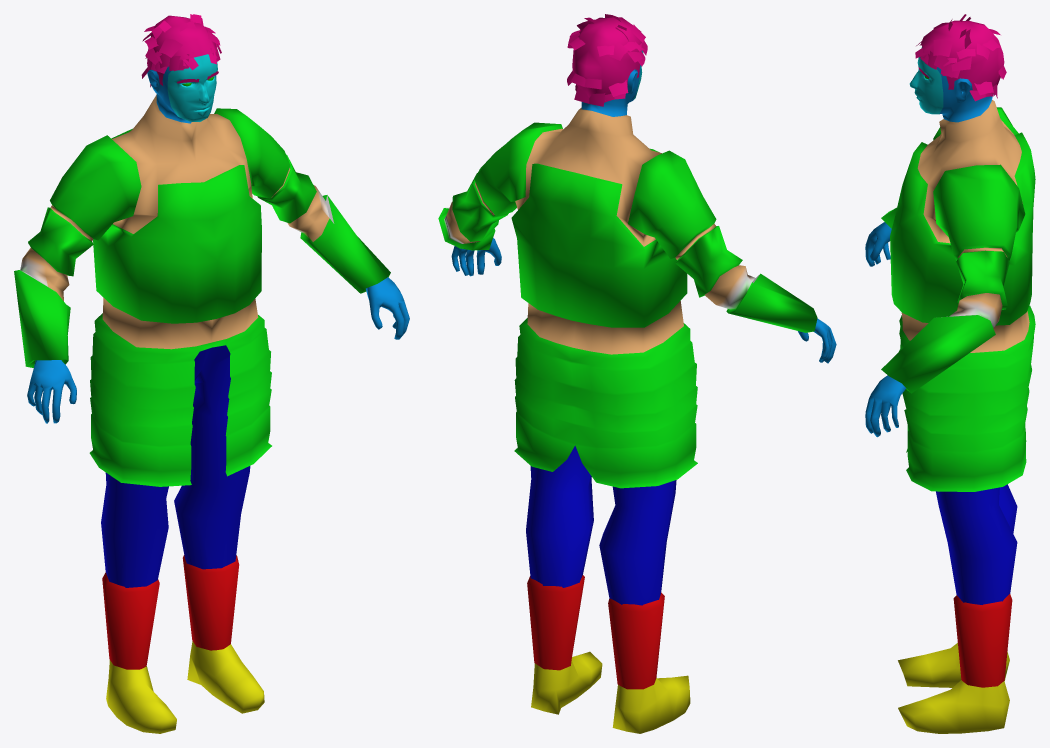
Rendered from Boss_melee.fbx.
3 views of the same model, side by side, from view 1: azimuth 30°, elevation 25°; view 2: azimuth 150°, elevation 25°; view 3: azimuth 270°, elevation 25° (orthographic).
Parts seen in each view (by area): view 1: Kalevi_Clothes_Mesh; view 2: Kalevi_Clothes_Mesh; view 3: Kalevi_Clothes_Mesh.
Boxes of the visible parts, <box> form: Kalevi_Clothes_Mesh: <box>14,14,409,733</box>; Kalevi_Clothes_Mesh: <box>438,14,836,733</box>; Kalevi_Clothes_Mesh: <box>865,14,1035,733</box>.
Bounding box in the file's own units: 103 × 180 × 40.7.
